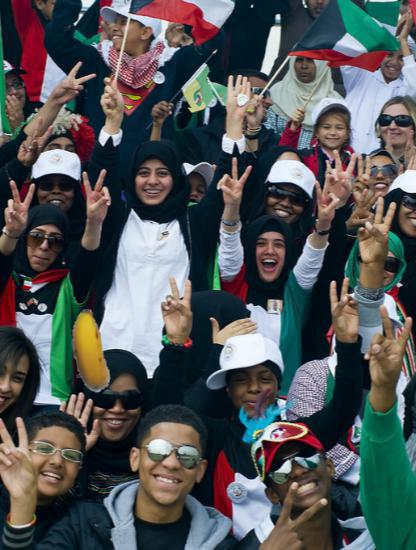Banana: (48, 309, 132, 393)
